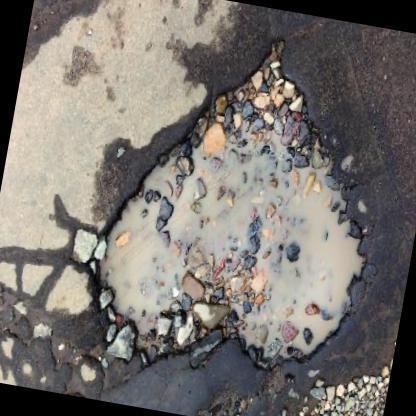pothole: (93, 33, 370, 374)
